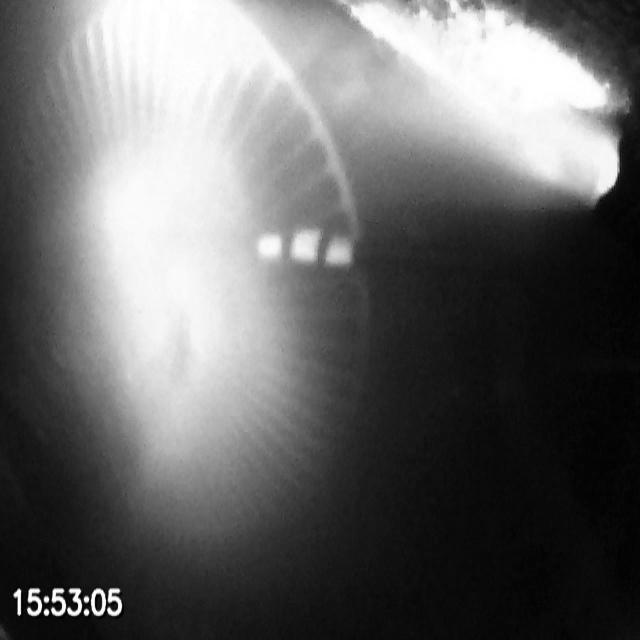white-dots: (256, 225, 356, 271)
